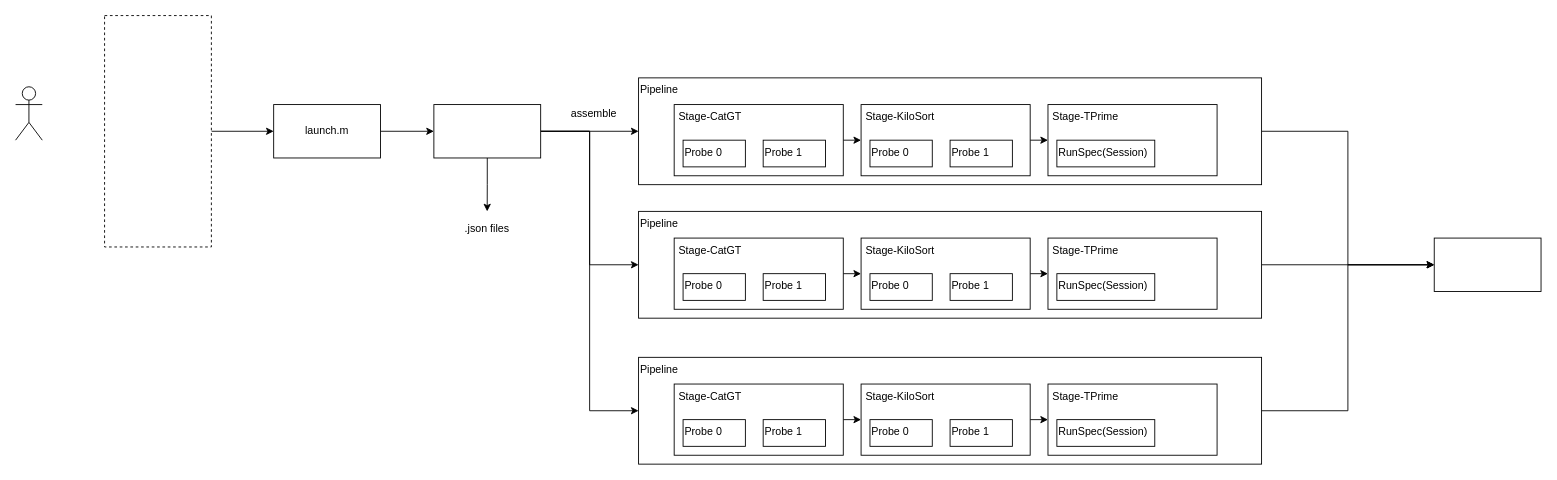
Some shapes in this 1557 by 480 pixel diagram are drawn without their labels. The centre of each missing label's shape, as x and y in pixels:
make Config objects: the point at 487,131
Neuropixel-tookit GUI: the point at 157,131
Result: the point at 1487,264
User: the point at 28,113
